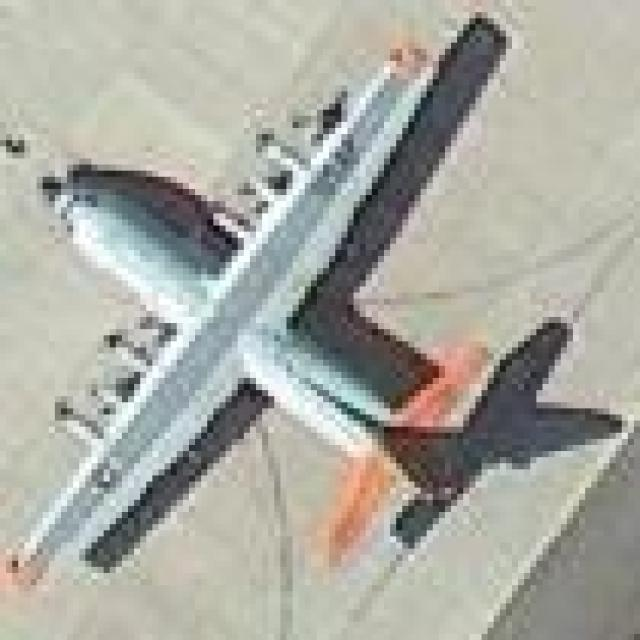C-130_TopDown: (0, 11, 624, 600)
